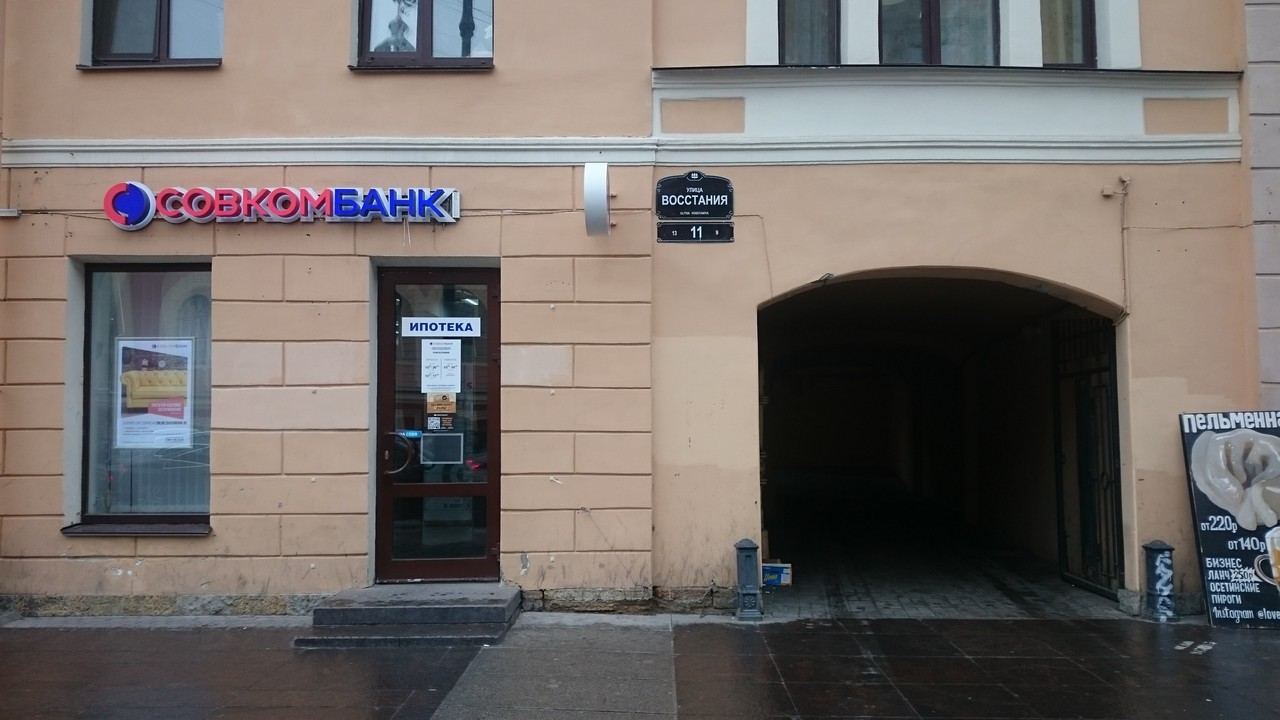arch: (759, 263, 1138, 616)
cantilever: (573, 159, 625, 240)
door: (372, 268, 497, 583)
signboard: (101, 178, 460, 231)
window: (78, 267, 210, 520)
